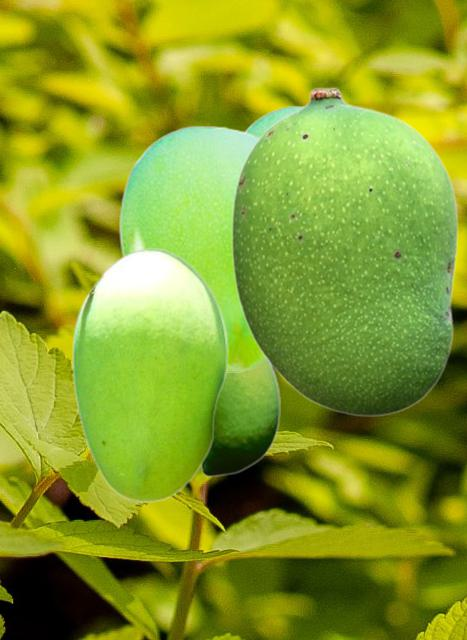green_mango: (230, 86, 457, 416), (71, 247, 227, 501), (118, 125, 266, 371), (200, 361, 279, 476), (245, 105, 302, 135)
